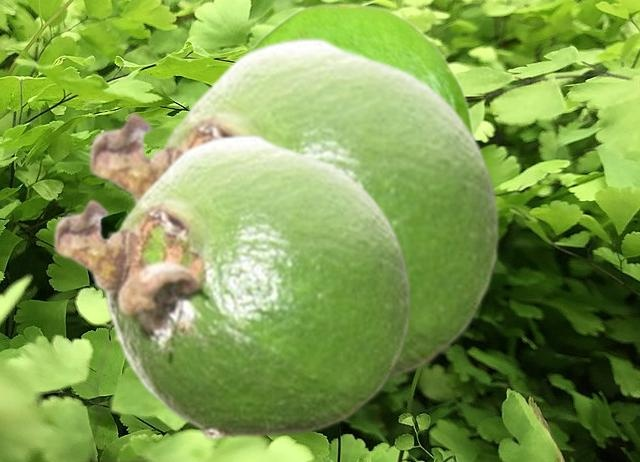guava: (86, 35, 502, 383), (51, 132, 413, 439), (249, 1, 475, 133)
